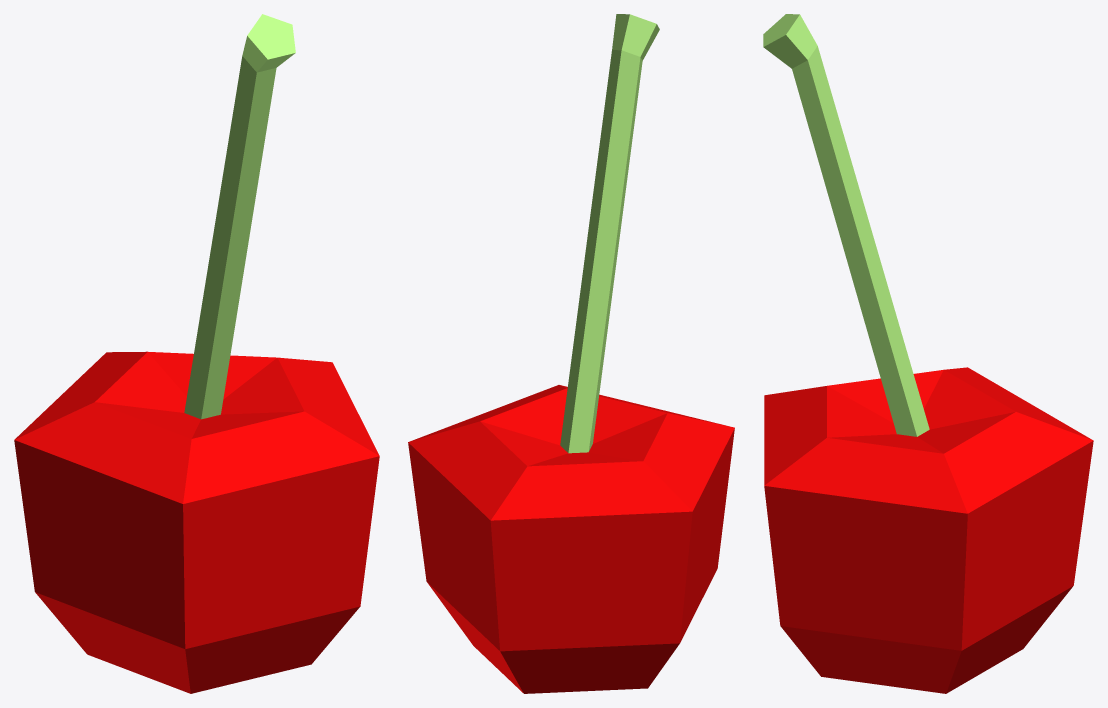
File: cherry01.gltf
3 views of the same model, side by side, from view 1: azimuth 30°, elevation 25°; view 2: azimuth 150°, elevation 25°; view 3: azimuth 270°, elevation 25° (orthographic). The views are drawn at different scales.
Parts seen in each view (by area): view 1: Cylinder.001; view 2: Cylinder.001; view 3: Cylinder.001.
Part boxes in pixels (x1,y1,x2,y2): Cylinder.001: (14,14,379,693); Cylinder.001: (408,14,734,693); Cylinder.001: (763,14,1093,693).
Size of the model in its own units: 0.0258 by 0.0522 by 0.0246.
Materials: 1 (1 with a texture image).
